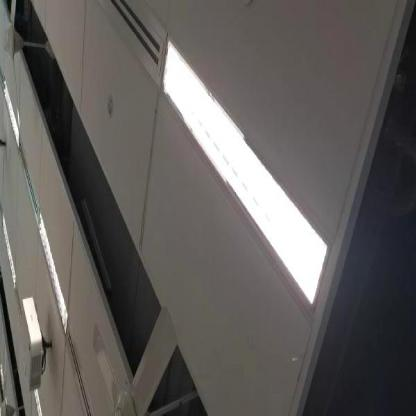light_on: (156, 29, 334, 320), (37, 202, 76, 335), (0, 69, 24, 150), (0, 207, 18, 296), (28, 379, 48, 415)
